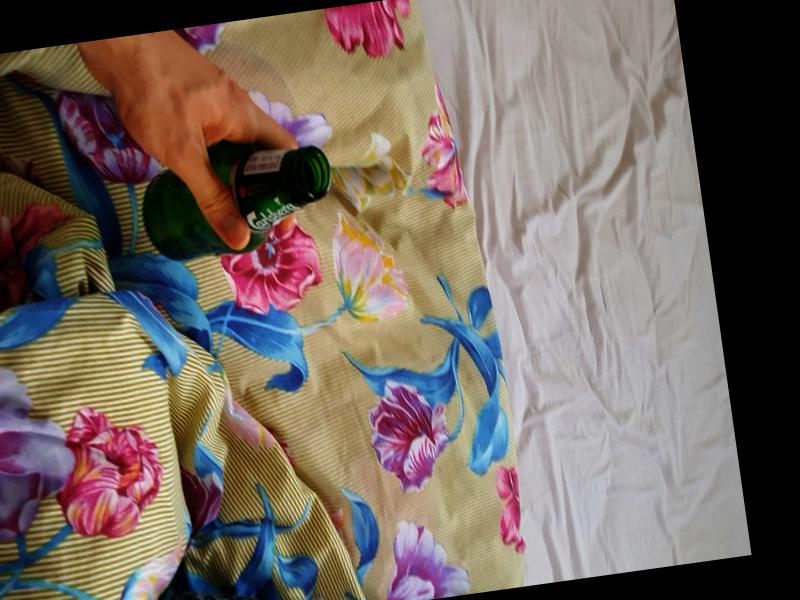Beer: (134, 126, 336, 263)
